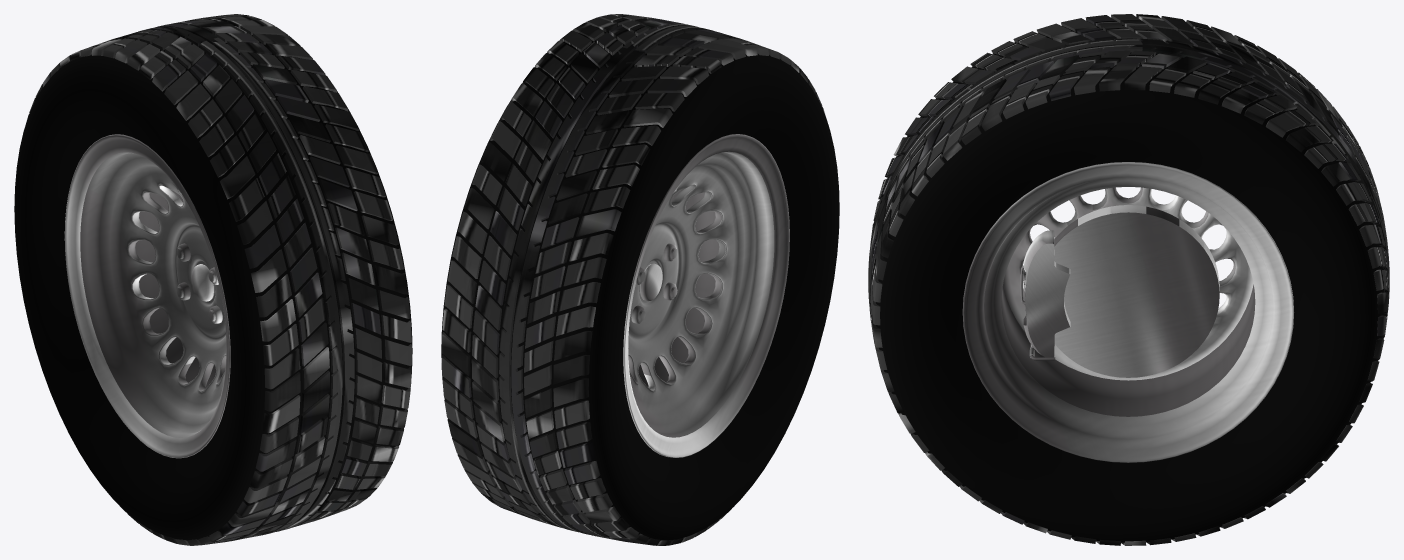
The model's file is LLanta_Trasera_Izquierda.obj.
The picture shows the model from 3 angles, left to right: view 1: azimuth 30°, elevation 25°; view 2: azimuth 150°, elevation 25°; view 3: azimuth 270°, elevation 25°; orthographic projection.
Parts seen in each view (by area): view 1: Object104, Object106, Object102, Object100, Object098; view 2: Object104, Object106, Object102, Object100, Object098; view 3: Object106, Object102, Object104, Object110, Object108.
Boxes of the visible parts, x1,y1,x2,y2 form: Object104: (27,14,412,545); Object106: (14,33,412,540); Object102: (64,134,230,458); Object100: (176,243,222,323); Object098: (192,264,213,301); Object104: (441,14,827,545); Object106: (441,25,839,540); Object102: (623,134,789,457); Object100: (631,243,677,323); Object098: (640,263,662,301); Object106: (876,21,1384,542); Object102: (962,162,1293,462); Object104: (868,14,1389,545); Object110: (1054,205,1219,377); Object108: (1020,230,1070,360).
Size of the model in its own units: 20.81 by 57.67 by 57.66.
Materials: 4 (2 with a texture image).
